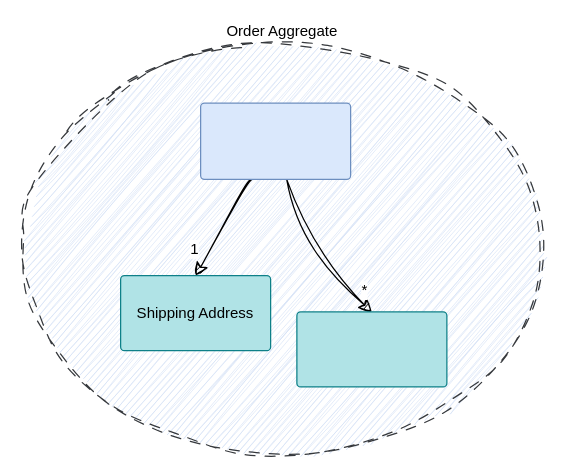
Some shapes in this 565 by 476 pixel diagram are drawn without their labels. The centre of each missing label's shape, as x and y in pixels:
"Order (aggregate root)" goes at point 275,140.
"Order Item" goes at point 371,349.
